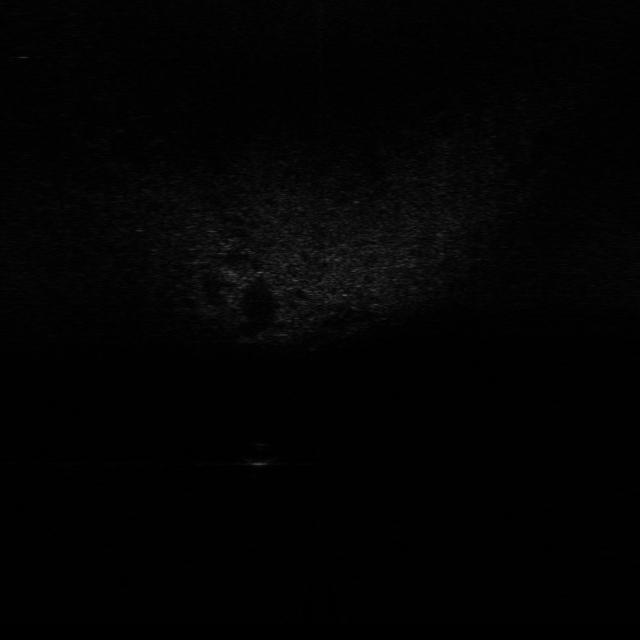ball: (240, 438, 282, 471)
